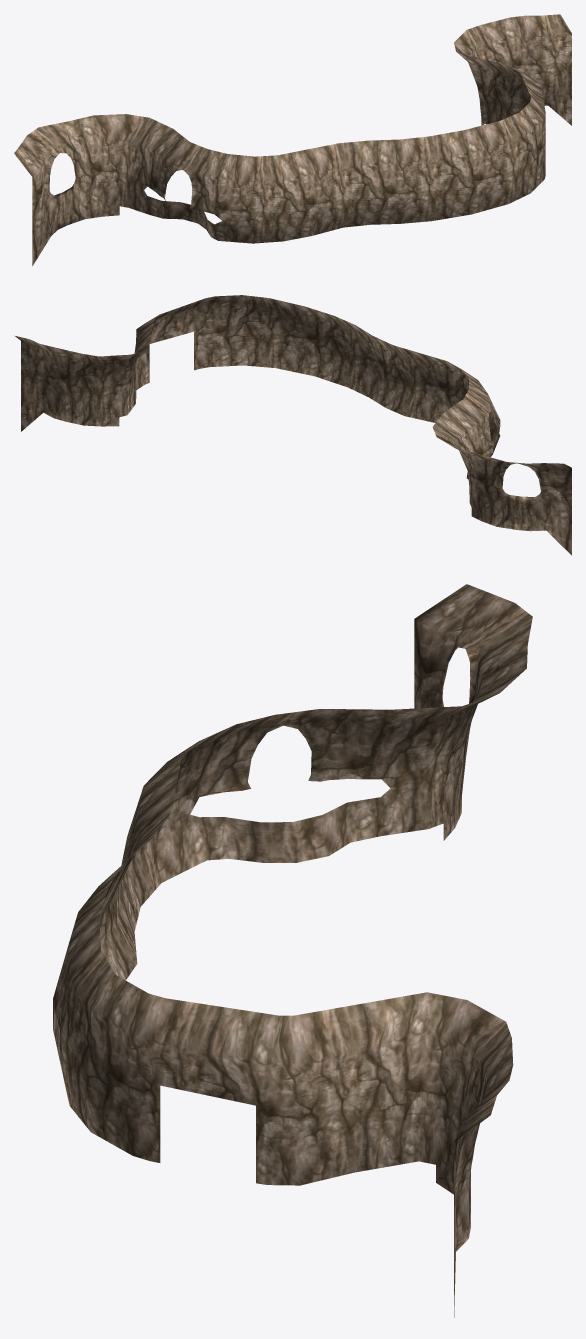
Rendered from OVERHILL_A_01_OBJECT149.fbx.
3 views of the same model, one above another, from view 1: azimuth 30°, elevation 25°; view 2: azimuth 150°, elevation 25°; view 3: azimuth 270°, elevation 25° (orthographic). The views are drawn at different scales.
Parts seen in each view (by area): view 1: OVERHILL_A_01_OBJECT149; view 2: OVERHILL_A_01_OBJECT149; view 3: OVERHILL_A_01_OBJECT149.
Part boxes in pixels (x1,y1,x2,y2): OVERHILL_A_01_OBJECT149: (14,14,571,265); OVERHILL_A_01_OBJECT149: (14,295,571,555); OVERHILL_A_01_OBJECT149: (53,584,532,1317).
Size of the model in its own units: 516827 by 98200 by 196654.
1 material, 1 textured.
